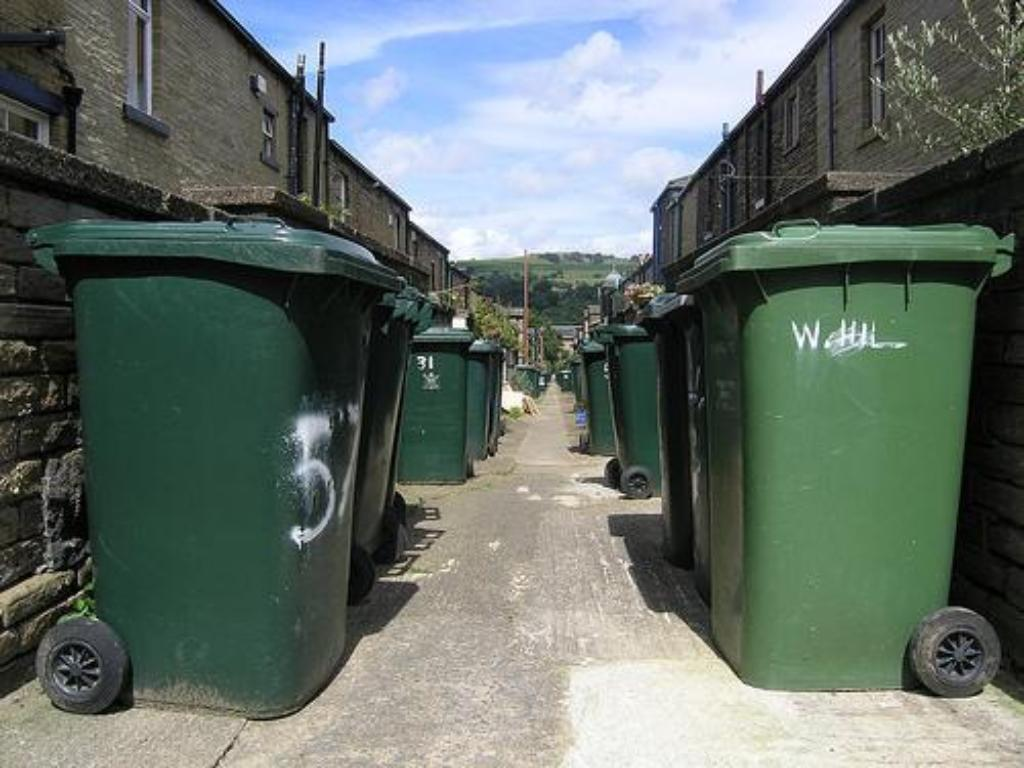dustbin: (23, 204, 377, 732), (687, 207, 1013, 710)
